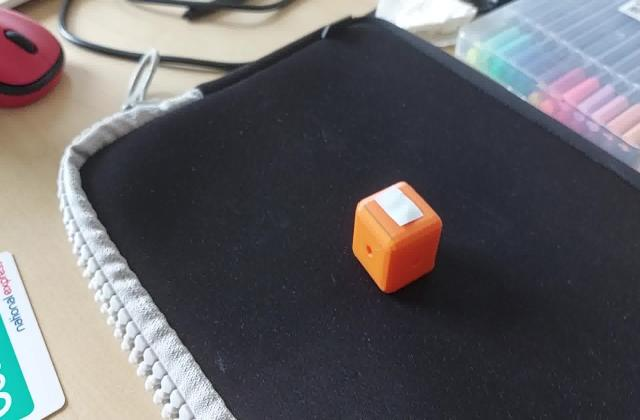cube: (350, 182, 444, 297)
